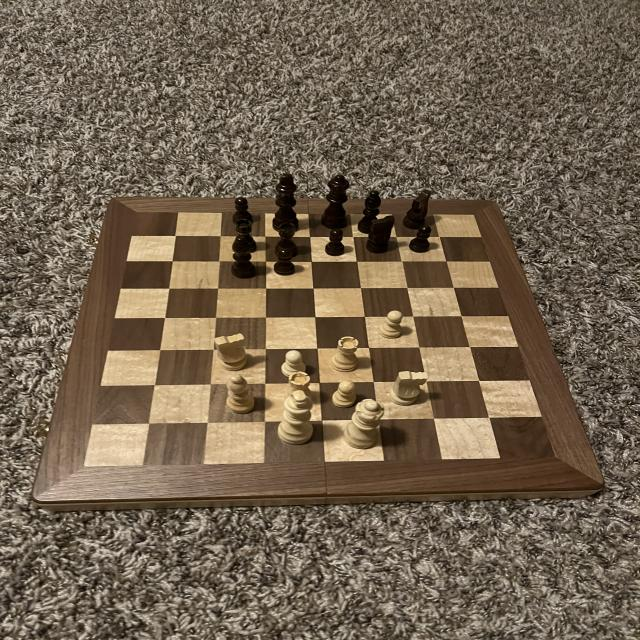bishop: (356, 188, 386, 234), (230, 234, 259, 280)
black-bishop: (268, 170, 302, 234)
black-king: (400, 187, 435, 232), (366, 213, 398, 253)
black-knight: (230, 196, 256, 226), (323, 227, 347, 259), (273, 249, 299, 278), (410, 226, 433, 253)
black-pawn: (320, 173, 352, 231)
black-queen: (230, 217, 259, 254), (274, 221, 300, 261)
black-rook: (220, 374, 258, 416)
white-bishop: (275, 389, 318, 447)
white-king: (213, 332, 252, 373), (389, 369, 427, 406)
white-knight: (376, 310, 406, 340), (279, 348, 308, 378), (329, 379, 358, 409)
white-pawn: (342, 396, 388, 452)
white-queen: (328, 336, 362, 373), (282, 370, 316, 406)
